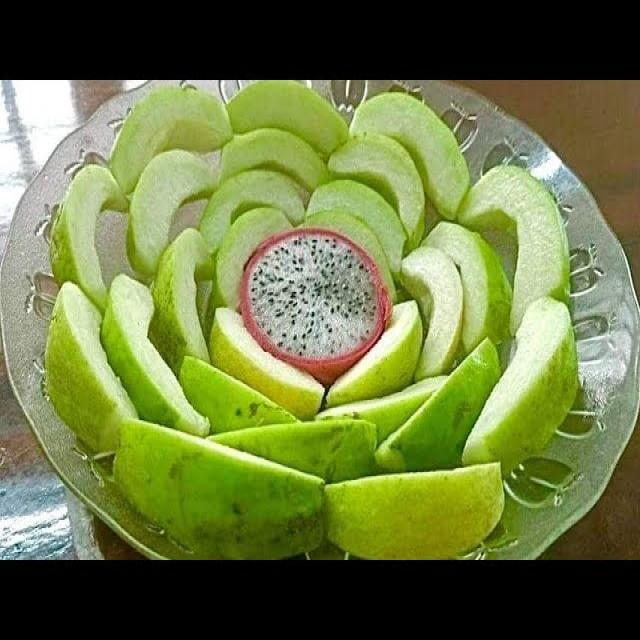oi: (116, 421, 323, 556), (463, 297, 578, 471), (458, 165, 568, 332), (102, 275, 209, 433), (325, 463, 503, 557), (377, 340, 499, 468), (45, 283, 137, 449), (351, 93, 470, 219), (109, 84, 231, 195), (210, 309, 323, 419), (422, 221, 511, 357), (127, 151, 216, 277), (327, 133, 424, 240), (51, 165, 123, 308), (213, 417, 376, 479), (327, 303, 422, 405), (227, 81, 348, 160), (308, 179, 406, 275), (305, 203, 404, 297), (179, 356, 296, 433), (200, 169, 307, 249), (151, 228, 208, 372), (403, 245, 463, 377), (213, 209, 292, 309), (316, 379, 442, 441), (221, 128, 327, 191)
thanh long: (240, 228, 391, 384)
